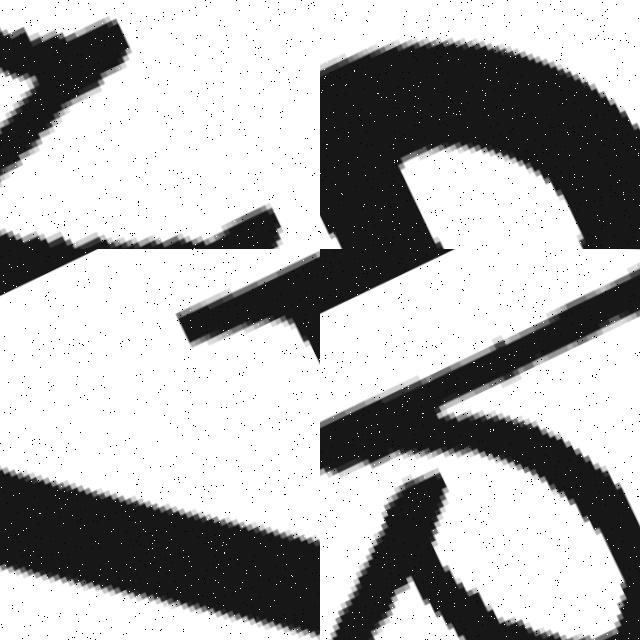E: (320, 37, 640, 249)
K: (320, 249, 640, 640)
W: (0, 0, 320, 249)
Z: (0, 249, 320, 640)
